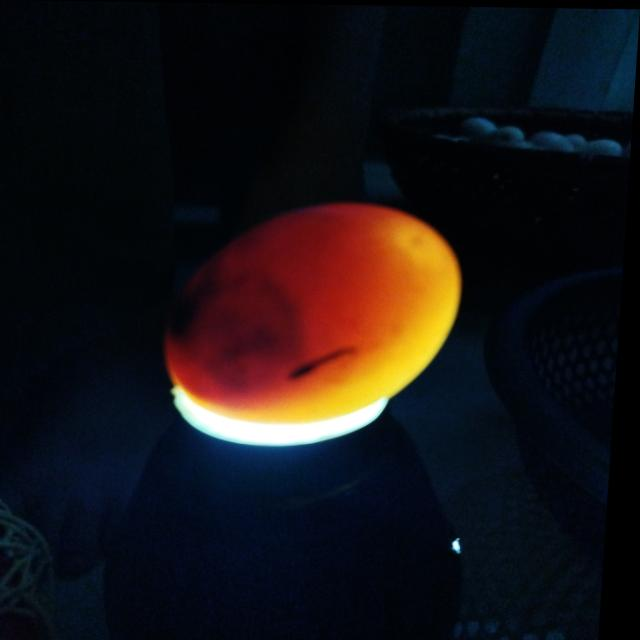Area Infectada: (171, 226, 362, 389)
